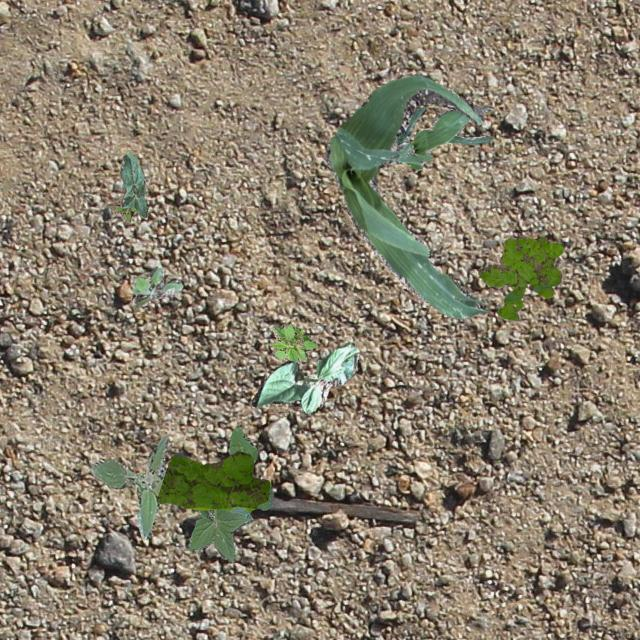crop: (323, 74, 488, 318), (250, 342, 358, 412), (392, 104, 492, 168), (118, 150, 146, 217)
weed: (186, 426, 272, 562), (90, 436, 168, 538), (478, 235, 562, 318), (156, 450, 268, 510), (132, 266, 182, 308), (268, 322, 316, 362), (110, 196, 134, 222)
